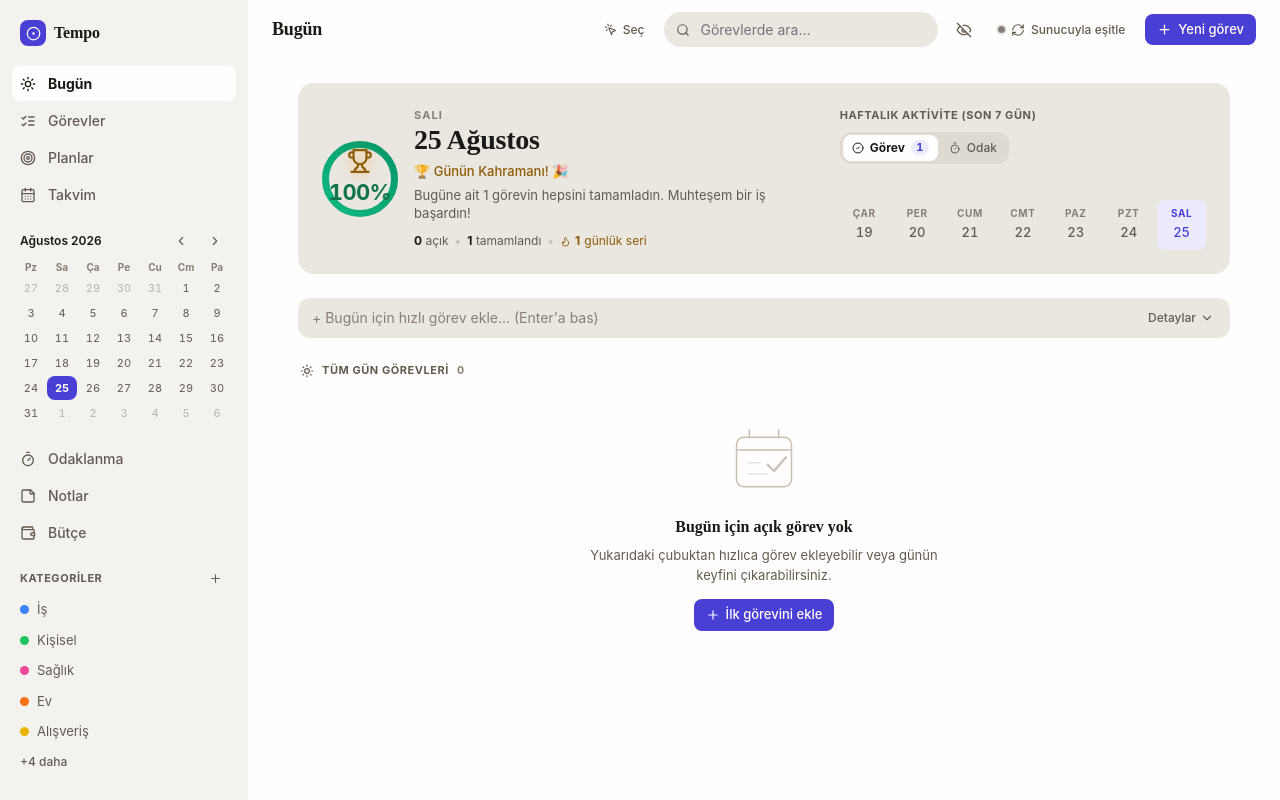
Test: hiding completed work from the topbar › takes the finished list off Bugün, and puts it back
Check: the text "Bugün tamamlananlar" is not shown
Check: the text "Biten iş" is not shown
Click the button named "Tamamlananları göster" at coordinates (964, 30), box [950,16,978,44]
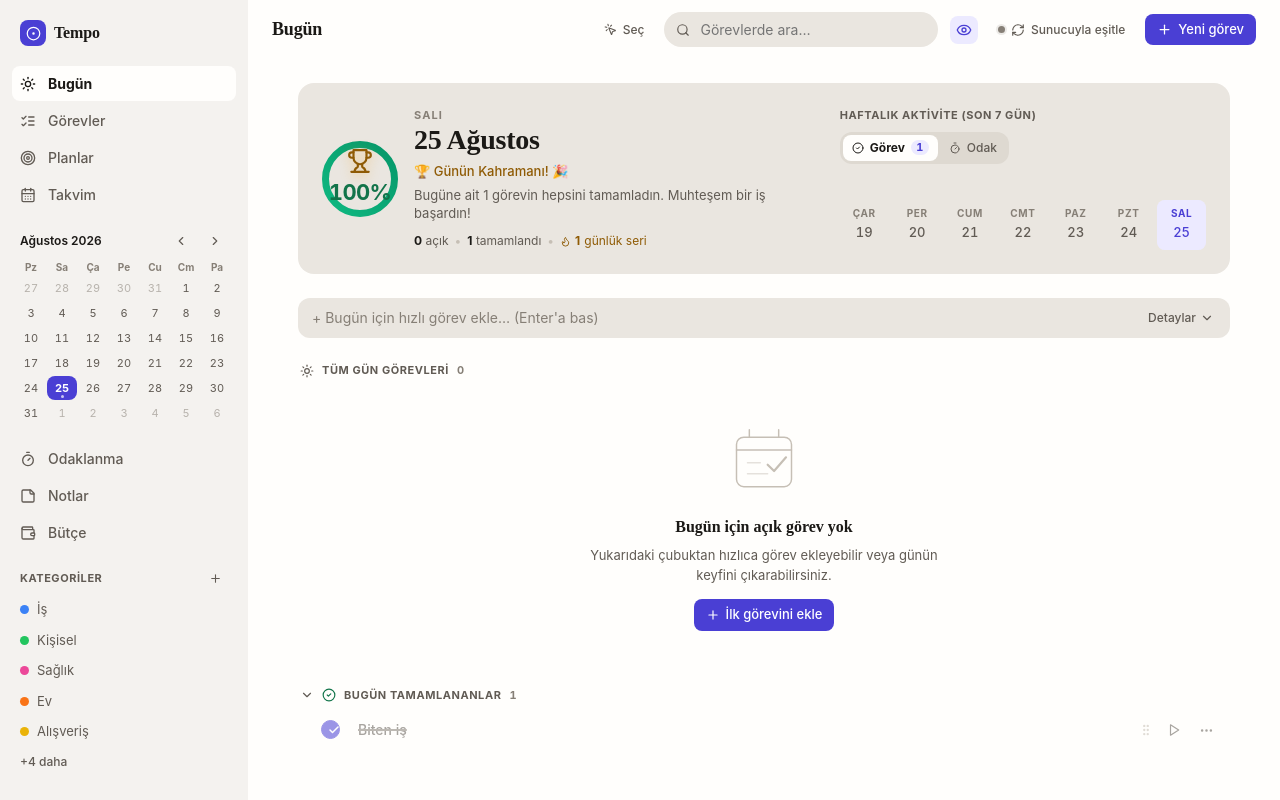
Check: the heading "Bugün tamamlananlar" is shown, box [344,687,501,703]
Check: the text "Biten iş" is shown, box [358,721,407,738]
Click the button named "Tamamlananları gizle" at coordinates (964, 30), box [950,16,978,44]
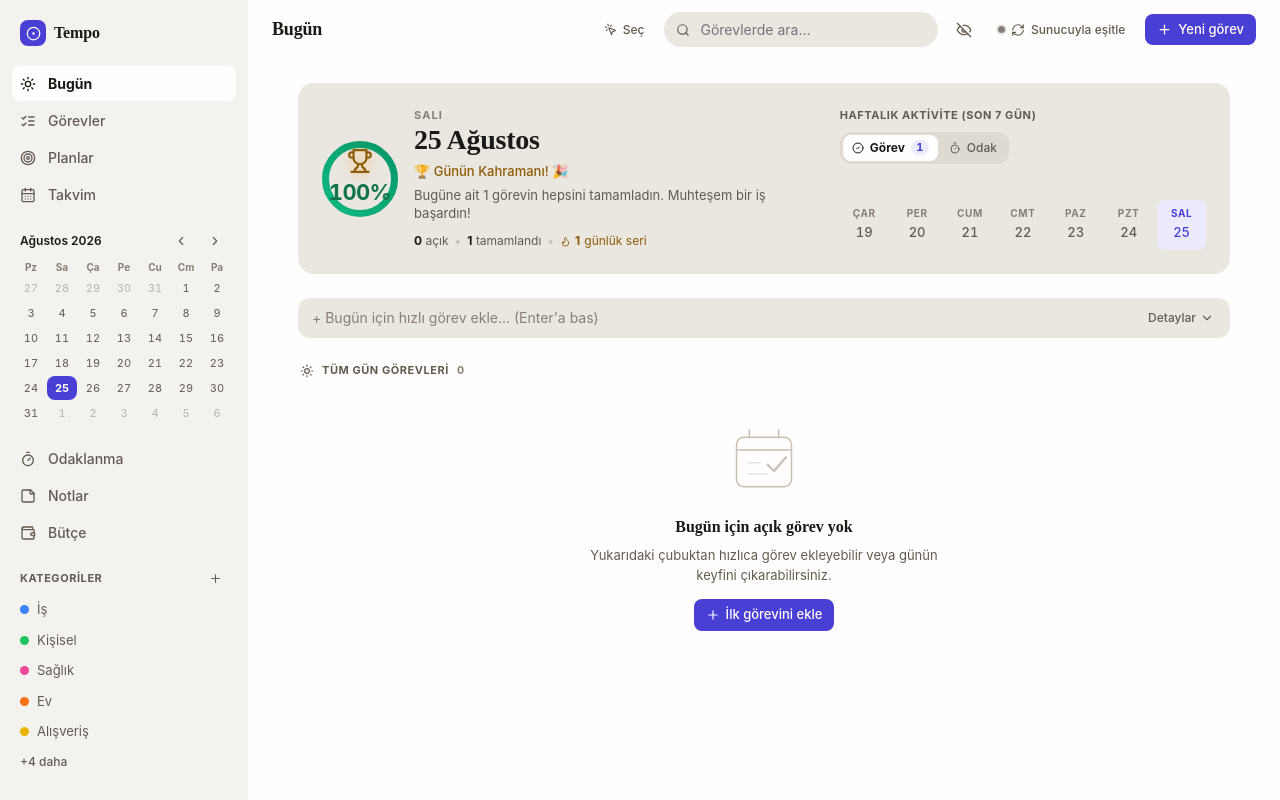
Check: the heading "Bugün tamamlananlar" is gone
Check: the button "Biten iş" is gone
